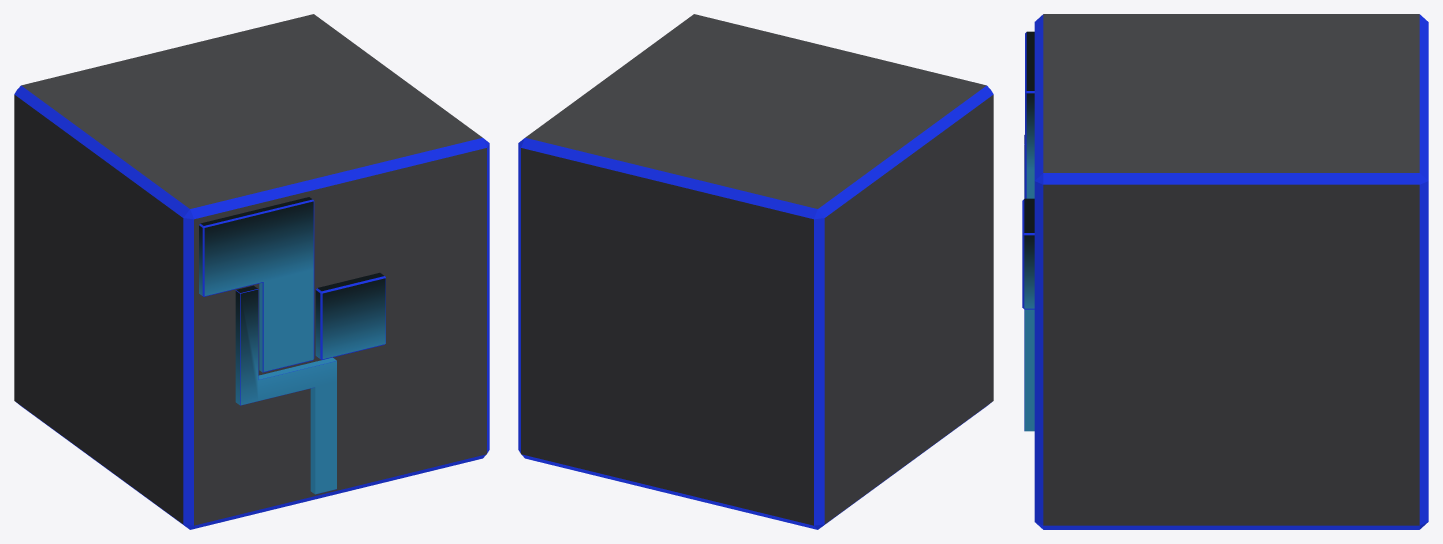
File: c6d5fc46-7bce-446b-b319-1a7f3635cd22.glb
3 renders of one model, left to right at view 1: azimuth 30°, elevation 25°; view 2: azimuth 150°, elevation 25°; view 3: azimuth 270°, elevation 25°, orthographic. The views are drawn at different scales.
Visible parts, largest first — view 1: CyberPunkCubeShapeC.008; view 2: CyberPunkCubeShapeC.008; view 3: CyberPunkCubeShapeC.008.
Boxes of the visible parts, x1,y1,x2,y2 form: CyberPunkCubeShapeC.008: (14, 14, 489, 529); CyberPunkCubeShapeC.008: (518, 14, 993, 529); CyberPunkCubeShapeC.008: (1022, 14, 1428, 529).
Size of what is drawn, in the model's own units: 0.7683 by 0.7683 by 0.7918.
2 materials, 2 textured.
